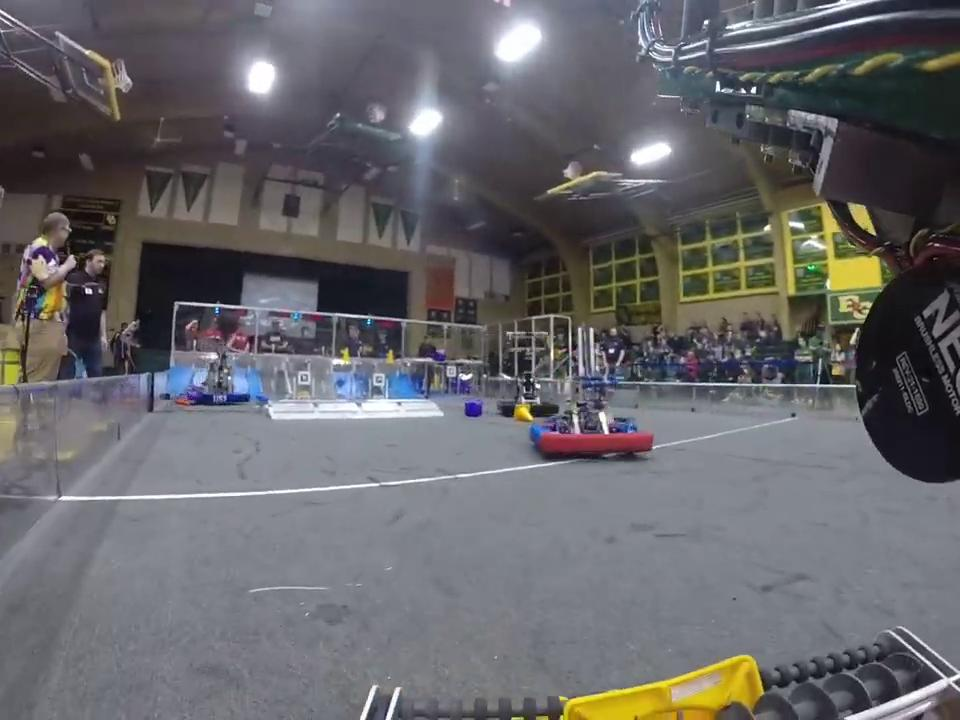robot: (540, 377, 655, 460), (529, 374, 637, 452), (186, 351, 251, 406), (495, 377, 559, 418)
